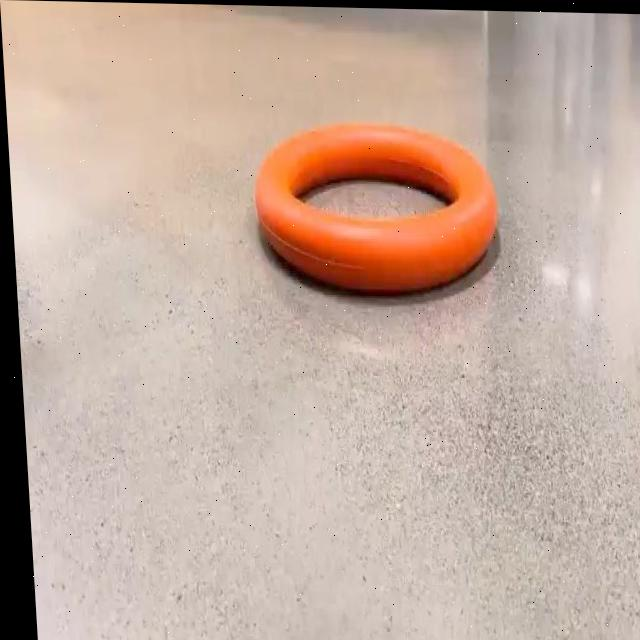note: (249, 120, 497, 292)
